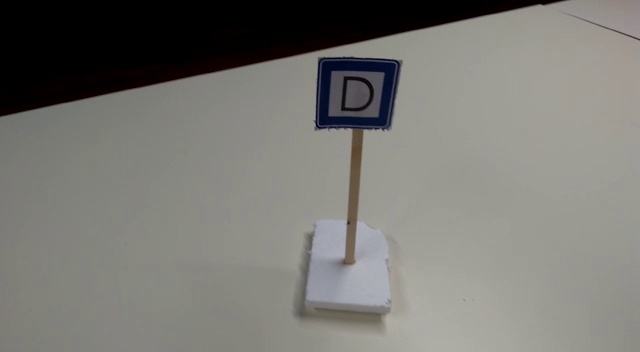durak: (315, 54, 393, 128)
